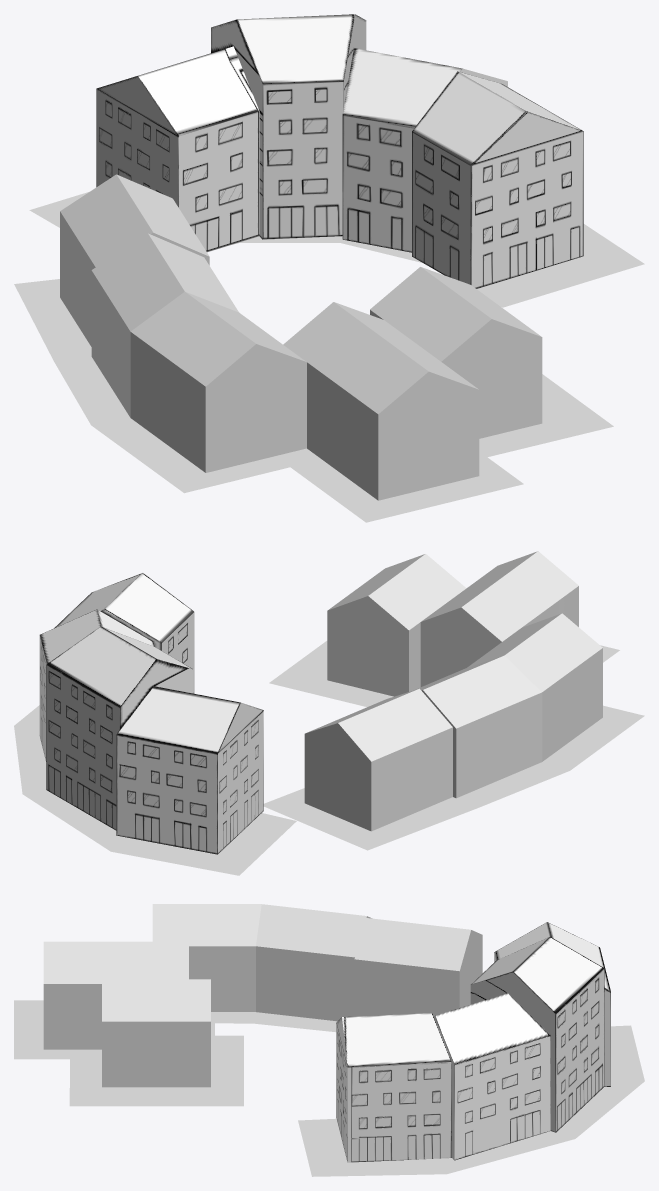
The model's file is Final_Geometry_Fix.fbx.
The picture shows the model from 3 angles, top to bottom: view 1: azimuth 30°, elevation 25°; view 2: azimuth 150°, elevation 25°; view 3: azimuth 270°, elevation 25°; orthographic projection. The views are drawn at different scales.
Visible parts, largest first — view 1: Building_One, Building_Two, Building_Two_Ground, Building_One_Ground; view 2: Building_Two, Building_One, Building_Two_Ground, Building_One_Ground; view 3: Building_Two, Building_One, Building_Two_Ground, Building_One_Ground.
Boxes of the visible parts, <box> form: Building_One: <box>96,14,583,288</box>; Building_Two: <box>60,174,542,500</box>; Building_Two_Ground: <box>14,279,613,522</box>; Building_One_Ground: <box>29,192,644,307</box>; Building_Two: <box>304,551,602,831</box>; Building_One: <box>39,573,263,854</box>; Building_Two_Ground: <box>263,641,644,850</box>; Building_One_Ground: <box>14,705,296,875</box>; Building_Two: <box>43,904,482,1087</box>; Building_One: <box>336,922,610,1162</box>; Building_Two_Ground: <box>14,1000,337,1106</box>; Building_One_Ground: <box>298,1025,644,1176</box>.
Size of the model in its own units: 7037 by 2221 by 8682.
